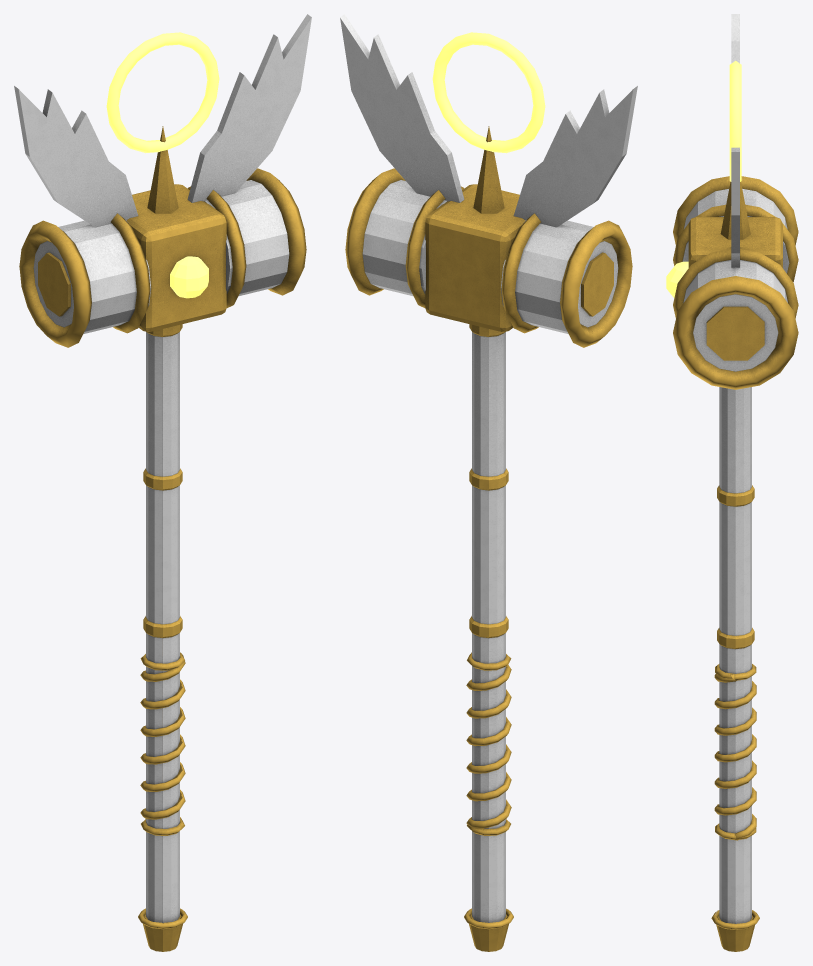
The model's file is 08_heaven_heavy.fbx.
The picture shows the model from 3 angles, left to right: view 1: azimuth 30°, elevation 25°; view 2: azimuth 150°, elevation 25°; view 3: azimuth 270°, elevation 25°; orthographic projection. The views are drawn at different scales.
Visible parts, largest first — view 1: Weapon; view 2: Weapon; view 3: Weapon.
Boxes of the visible parts, x1,y1,x2,y2 form: Weapon: (14,14,311,951); Weapon: (340,14,637,951); Weapon: (666,14,798,951).
Bounding box in the file's own units: 47.12 × 140 × 19.06.
Materials: 2 (1 with a texture image).
